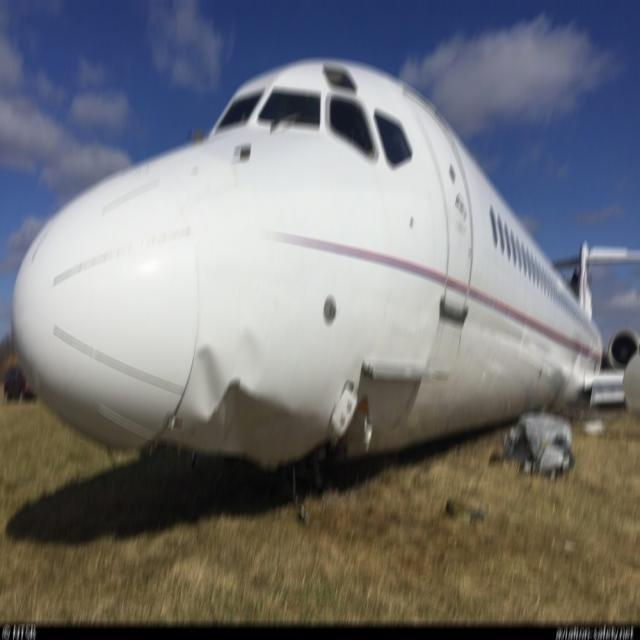dent: (184, 342, 228, 424), (233, 327, 268, 392)
